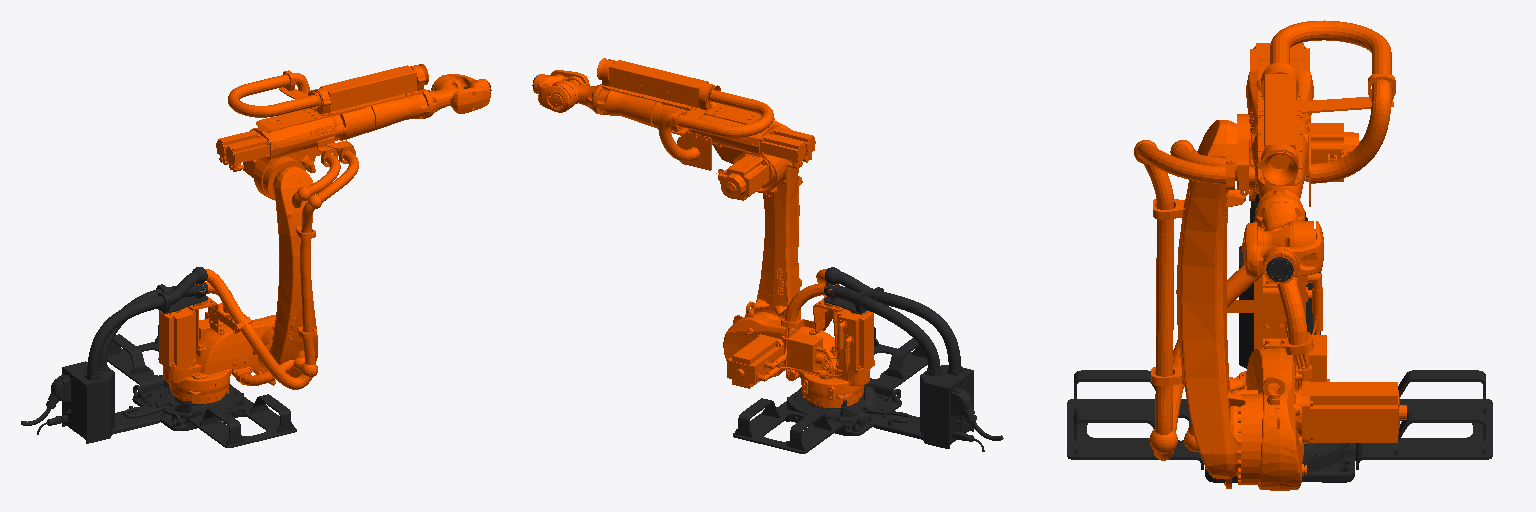
URDF robot description (kuka_kr_20_r2010_ks_f):
<?xml version="1.0"?>
<robot name="kuka_kr_20_r2010_ks_f">
  <material name="kuka_orange"><color rgba="1.00 0.40 0.00 1.0"/></material>
  <material name="kuka_dark_gray"><color rgba="0.20 0.20 0.20 1.0"/></material>

  <link name="base_link">
    <inertial>
      <origin xyz="-0.183451 -0.000043 0.146711" rpy="0 0 0"/>
      <mass value="35.556"/>
      <inertia ixx="1.664053" ixy="0.002132" ixz="0.195654" iyy="1.950664" iyz="0.010073" izz="2.382635"/>
    </inertial>
    <visual>
      <origin xyz="0 0 0" rpy="0 0 0"/>
      <geometry><mesh filename="meshes/visual/base_link.stl"/></geometry>
      <material name="kuka_dark_gray"/>
    </visual>
    <collision>
      <origin xyz="0 0 0" rpy="0 0 0"/>
      <geometry><mesh filename="meshes/visual/base_link.stl"/></geometry>
    </collision>
  </link>

  <link name="link_1">
    <inertial>
      <origin xyz="0.128354 -0.001581 0.259021" rpy="0 0 0"/>
      <mass value="63.151"/>
      <inertia ixx="1.059823" ixy="0.058475" ixz="0.200653" iyy="1.614081" iyz="0.009685" izz="1.560771"/>
    </inertial>
    <visual>
      <origin xyz="0 0 0" rpy="0 0 0"/>
      <geometry><mesh filename="meshes/visual/link_1.stl"/></geometry>
      <material name="kuka_orange"/>
    </visual>
    <collision>
      <origin xyz="0 0 0" rpy="0 0 0"/>
      <geometry><mesh filename="meshes/visual/link_1.stl"/></geometry>
    </collision>
  </link>

  <link name="link_2">
    <inertial>
      <origin xyz="-0.006853 -0.196486 0.371959" rpy="0 0 0"/>
      <mass value="132.872"/>
      <inertia ixx="6.589105" ixy="-0.008728" ixz="0.045349" iyy="6.411725" iyz="0.168780" izz="0.585300"/>
    </inertial>
    <visual>
      <origin xyz="0 0 0" rpy="0 0 0"/>
      <geometry><mesh filename="meshes/visual/link_2.stl"/></geometry>
      <material name="kuka_orange"/>
    </visual>
    <collision>
      <origin xyz="0 0 0" rpy="0 0 0"/>
      <geometry><mesh filename="meshes/visual/link_2.stl"/></geometry>
    </collision>
  </link>

  <link name="link_3">
    <inertial>
      <origin xyz="0.181489 0.004776 0.159767" rpy="0 0 0"/>
      <mass value="157.902"/>
      <inertia ixx="2.416162" ixy="0.010190" ixz="-1.167932" iyy="5.853907" iyz="-0.326447" izz="5.784440"/>
    </inertial>
    <visual>
      <origin xyz="0 0 0" rpy="0 0 0"/>
      <geometry><mesh filename="meshes/visual/link_3.stl"/></geometry>
      <material name="kuka_orange"/>
    </visual>
    <collision>
      <origin xyz="0 0 0" rpy="0 0 0"/>
      <geometry><mesh filename="meshes/visual/link_3.stl"/></geometry>
    </collision>
  </link>

  <link name="link_4">
    <inertial>
      <origin xyz="-0.253522 0.006583 -0.000124" rpy="0 0 0"/>
      <mass value="15.924"/>
      <inertia ixx="0.046375" ixy="-0.016135" ixz="-0.000469" iyy="0.364026" iyz="0.000019" izz="0.366883"/>
    </inertial>
    <visual>
      <origin xyz="0 0 0" rpy="0 0 0"/>
      <geometry><mesh filename="meshes/visual/link_4.stl"/></geometry>
      <material name="kuka_orange"/>
    </visual>
    <collision>
      <origin xyz="0 0 0" rpy="0 0 0"/>
      <geometry><mesh filename="meshes/visual/link_4.stl"/></geometry>
    </collision>
  </link>

  <link name="link_5">
    <inertial>
      <origin xyz="0.048320 0.011067 0.000046" rpy="0 0 0"/>
      <mass value="22.660"/>
      <inertia ixx="0.101971" ixy="0.006745" ixz="-0.000033" iyy="0.077472" iyz="0.000013" izz="0.134023"/>
    </inertial>
    <visual>
      <origin xyz="0 0 0" rpy="0 0 0"/>
      <geometry><mesh filename="meshes/visual/link_5.stl"/></geometry>
      <material name="kuka_orange"/>
    </visual>
    <collision>
      <origin xyz="0 0 0" rpy="0 0 0"/>
      <geometry><mesh filename="meshes/visual/link_5.stl"/></geometry>
    </collision>
  </link>

  <link name="link_6">
    <inertial>
      <origin xyz="-0.030321 0.000000 -0.000030" rpy="0 0 0"/>
      <mass value="4.430"/>
      <inertia ixx="0.005704" ixy="0.000000" ixz="-0.000003" iyy="0.008321" iyz="0.000000" izz="0.008326"/>
    </inertial>
    <visual>
      <origin xyz="0 0 0" rpy="0 0 0"/>
      <geometry><mesh filename="meshes/visual/link_6.stl"/></geometry>
      <material name="kuka_dark_gray"/>
    </visual>
    <collision>
      <origin xyz="0 0 0" rpy="0 0 0"/>
      <geometry><mesh filename="meshes/visual/link_6.stl"/></geometry>
    </collision>
  </link>

  <link name="tool0"/>

  <joint name="joint_a1" type="revolute">
    <parent link="base_link"/>
    <child link="link_1"/>
    <origin xyz="0.000000 0.000000 0.000000" rpy="0 0 0"/>
    <axis xyz="0.0 0.0 -1.0"/>
    <limit lower="-2.181662" upper="2.181662" effort="1851.6" velocity="3.490659"/>
    <dynamics damping="5.0" friction="1.0"/>
  </joint>

  <joint name="joint_a2" type="revolute">
    <parent link="link_1"/>
    <child link="link_2"/>
    <origin xyz="0.360000 0.000000 0.200000" rpy="0 0 0"/>
    <axis xyz="0.0 1.0 0.0"/>
    <limit lower="-0.523599" upper="3.141593" effort="1607.2" velocity="3.007831"/>
    <dynamics damping="5.0" friction="1.0"/>
  </joint>

  <joint name="joint_a3" type="revolute">
    <parent link="link_2"/>
    <child link="link_3"/>
    <origin xyz="0.000000 0.000000 0.780000" rpy="0 0 0"/>
    <axis xyz="0.0 1.0 0.0"/>
    <limit lower="-3.979351" upper="1.483530" effort="1056.9" velocity="3.316126"/>
    <dynamics damping="5.0" friction="1.0"/>
  </joint>

  <joint name="joint_a4" type="revolute">
    <parent link="link_3"/>
    <child link="link_4"/>
    <origin xyz="0.860000 0.000000 0.150000" rpy="0 0 0"/>
    <axis xyz="-1.0 0.0 -0.0"/>
    <limit lower="-6.108652" upper="6.108652" effort="249.1" velocity="7.504916"/>
    <dynamics damping="5.0" friction="1.0"/>
  </joint>

  <joint name="joint_a5" type="revolute">
    <parent link="link_4"/>
    <child link="link_5"/>
    <origin xyz="0.000000 0.000000 0.000000" rpy="0 0 0"/>
    <axis xyz="0.0 1.0 0.0"/>
    <limit lower="-2.268928" upper="2.268928" effort="238.9" velocity="7.504916"/>
    <dynamics damping="5.0" friction="1.0"/>
  </joint>

  <joint name="joint_a6" type="revolute">
    <parent link="link_5"/>
    <child link="link_6"/>
    <origin xyz="0.153000 0.000000 0.000000" rpy="0 0 0"/>
    <axis xyz="-1.0 0.0 -0.0"/>
    <limit lower="-6.108652" upper="6.108652" effort="104.6" velocity="10.995574"/>
    <dynamics damping="5.0" friction="1.0"/>
  </joint>

  <joint name="link_6-tool0" type="fixed">
    <parent link="link_6"/>
    <child link="tool0"/>
    <origin xyz="0.000000 0.000000 0.000000" rpy="0 1.57079632679 0"/>
  </joint>
</robot>

--- Facts derived from the render (not from the file) ---
The picture shows the robot from 3 angles, left to right: view 1: azimuth 30°, elevation 25°; view 2: azimuth 150°, elevation 25°; view 3: azimuth 270°, elevation 25°; orthographic projection.
Robot: kuka_kr_20_r2010_ks_f — 8 links, 7 joints (6 revolute, 1 fixed); root link base_link; default pose: every joint at zero.
Visible links, largest first — view 1: base_link, link_3, link_1, link_2, link_4, link_5; view 2: base_link, link_3, link_1, link_2, link_4, link_5; view 3: link_1, link_2, link_3, base_link, link_4, link_5, link_6.
Boxes of the visible links, x1,y1,x2,y2 form: base_link: (21,267,296,447); link_3: (216,64,428,205); link_1: (158,269,317,403); link_2: (269,166,321,377); link_4: (345,75,463,139); link_5: (431,74,490,113); base_link: (733,267,1003,453); link_3: (597,58,815,200); link_1: (723,269,874,407); link_2: (754,160,802,319); link_4: (553,80,683,135); link_5: (533,70,589,112); link_1: (1149,265,1406,490); link_2: (1134,120,1245,488); link_3: (1134,20,1395,206); base_link: (1067,194,1492,482); link_4: (1252,135,1315,246); link_5: (1242,221,1323,284); link_6: (1266,257,1293,281).
Size in the robot's own frame: 2.19 by 1.04 by 1.31 metres.
7 mesh visuals loaded from 7 distinct referenced files (7 binary STL).
